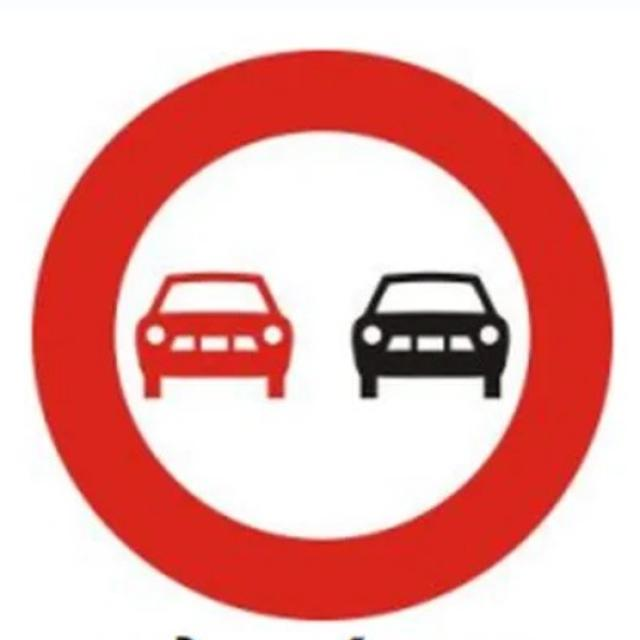Bien bao cam vuot: (18, 24, 630, 623)
